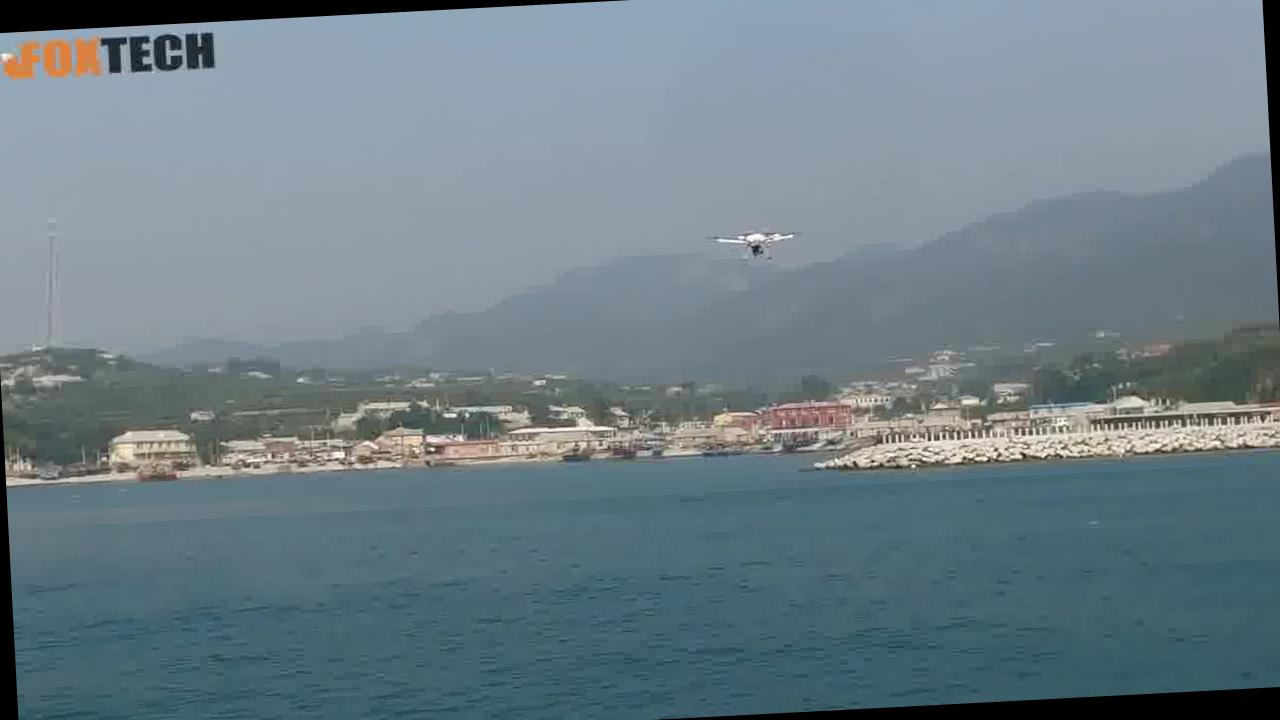drone: (697, 222, 817, 266)
